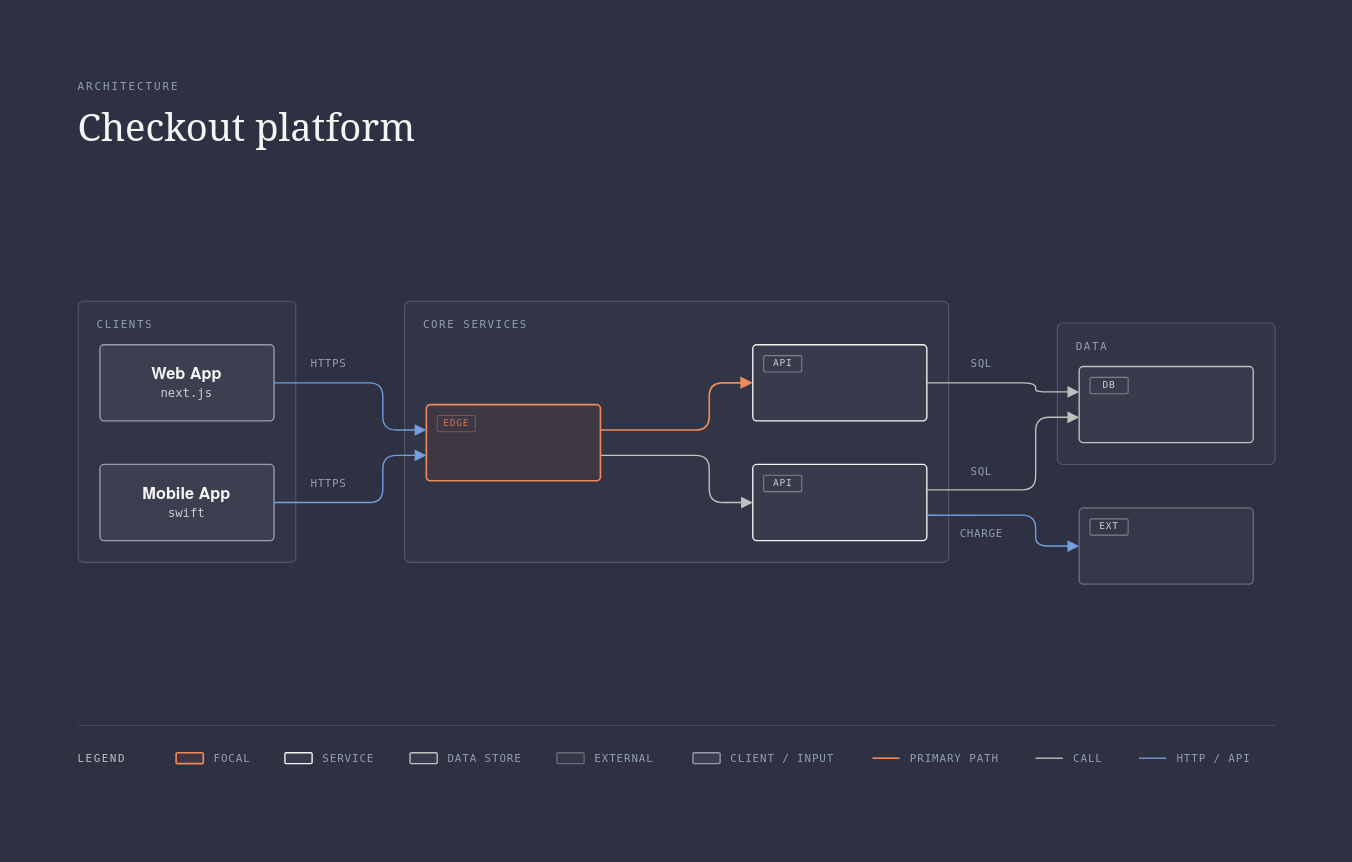
The diagram is 1352 pixels wide and 862 high, and some of its shapes have lost their labels. The box of each missing label's shape, as (x1, y1, x2, y2) in pixels:
API Gateway nginx · :443: (425, 403, 601, 481)
Orders grpc :9001: (751, 343, 927, 421)
Payments grpc :9002: (751, 463, 927, 541)
Postgres orders · payments: (1078, 365, 1253, 443)
Stripe payments API: (1078, 507, 1253, 584)
